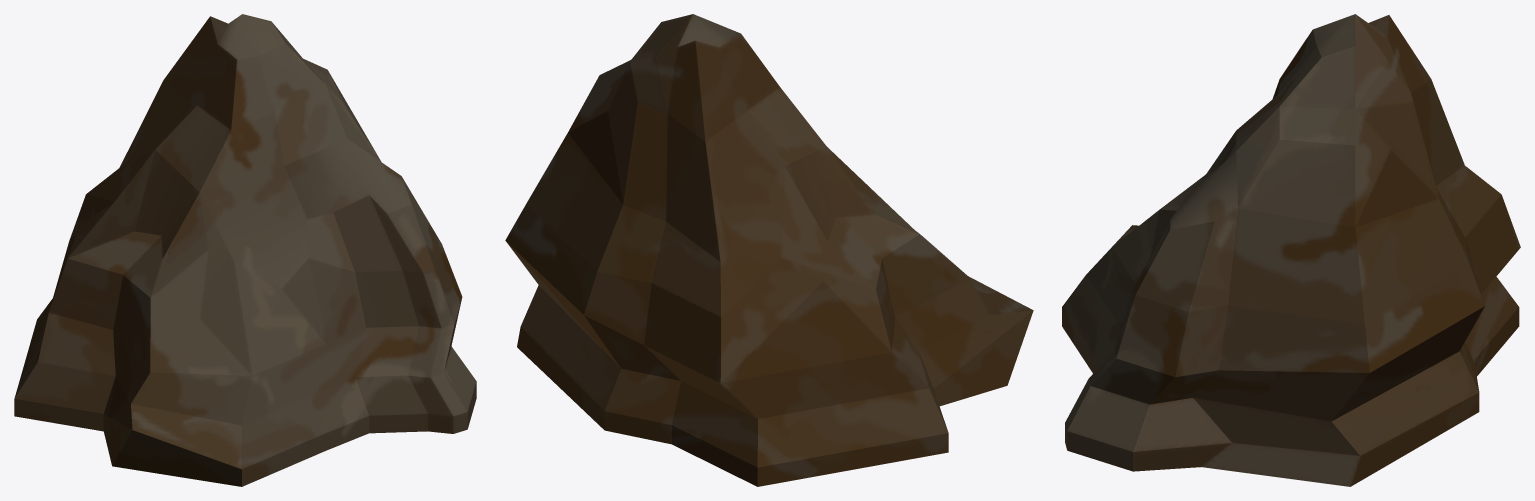
Rendered from Rock01_Model.fbx.
The picture shows the model from 3 angles, left to right: view 1: azimuth 30°, elevation 25°; view 2: azimuth 150°, elevation 25°; view 3: azimuth 270°, elevation 25°; orthographic projection. The views are drawn at different scales.
Visible parts, largest first — view 1: pPlane1; view 2: pPlane1; view 3: pPlane1.
Part boxes in pixels (x1=…): pPlane1: x1=14, y1=14, x2=476, y2=486; pPlane1: x1=505, y1=14, x2=1033, y2=486; pPlane1: x1=1062, y1=14, x2=1520, y2=486.
Size of the model in its own units: 5.74 by 4.81 by 5.18.
